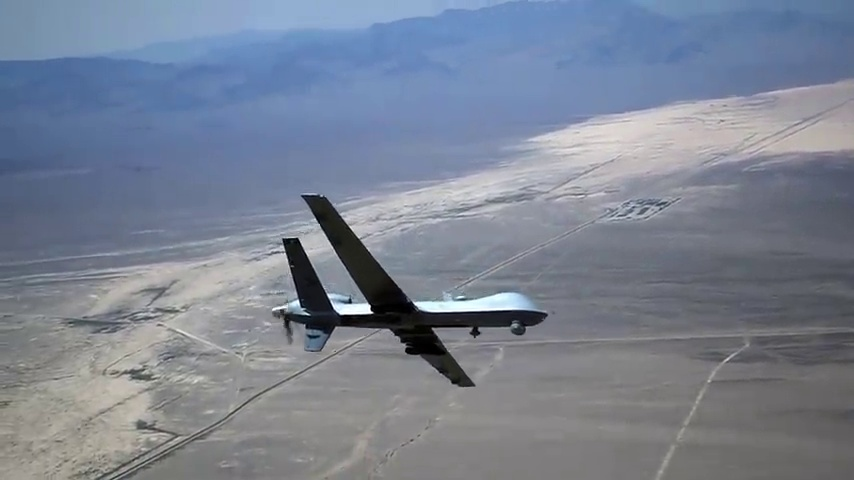military drone: (271, 192, 548, 387)
